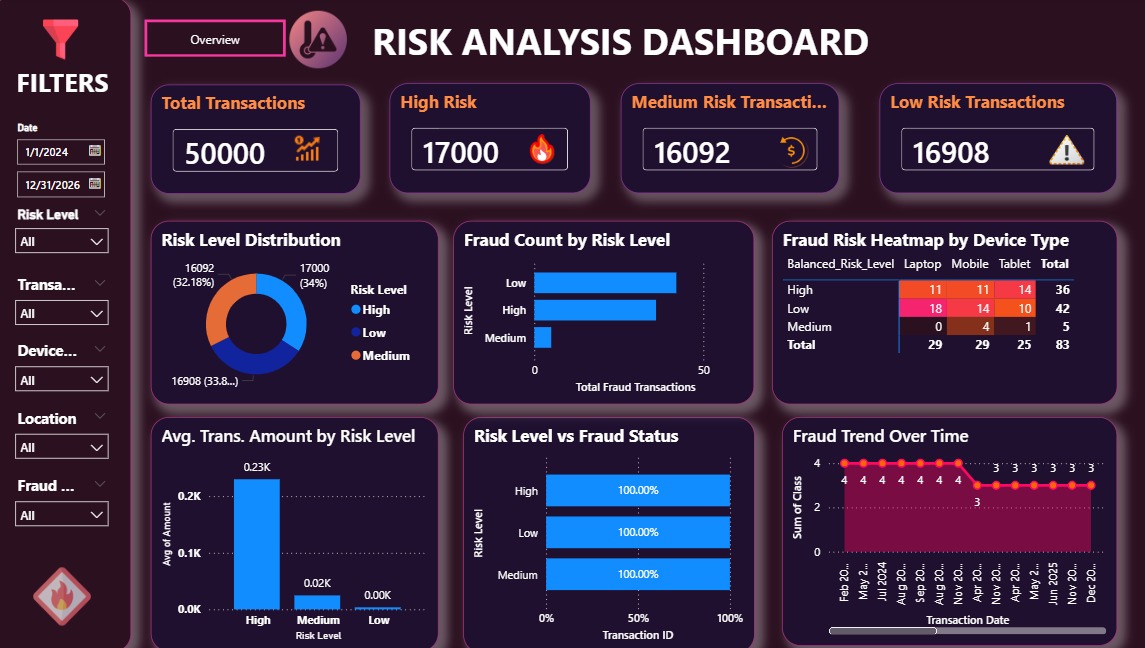

The page's visual inventory and layout, read from the dashboard file:
{"tool":"powerbi","page":{"name":"Page 3","canvas":[1280,720],"ordinal":2},"visuals":[{"type":"textbox","title":"RISK ANALYSIS DASHBOARD","box":[393.8,20.6,592.8,52.1],"z":0},{"type":"cardVisual","title":"Total Transactions","fields":{"Data":["enriched_data.Total Transactions"]},"box":[173.6,96.5,230.1,119.9],"z":1000},{"type":"cardVisual","title":"Medium Risk Transactions","fields":{"Data":["enriched_data.Test Medium Risk"]},"box":[690.2,94.7,240.1,120.8],"z":2000},{"type":"cardVisual","title":"Low Risk Transactions","fields":{"Data":["enriched_data.Low Risk Transactions"]},"box":[974.3,94.7,260.7,120.8],"z":3000},{"type":"cardVisual","title":"High Risk","fields":{"Data":["enriched_data.Test High Risk"]},"box":[436.4,94.7,220.9,120.8],"z":4000},{"type":"textbox","title":"FILTERS","box":[0,0,153,719.4],"z":5000},{"type":"slicer","fields":{"Values":["enriched_data.transaction_date"]},"box":[15,131.2,122.5,93.8],"z":6000},{"type":"slicer","fields":{"Values":["enriched_data.Balanced_Risk_Level"]},"box":[15,225,122.5,73.8],"z":7000},{"type":"slicer","fields":{"Values":["enriched_data.transaction_type"]},"box":[15,298.8,122.5,73.8],"z":8000},{"type":"slicer","fields":{"Values":["enriched_data.device_type"]},"box":[15,372.5,122.5,73.8],"z":9000},{"type":"slicer","fields":{"Values":["enriched_data.location"]},"box":[15,446.2,122.5,73.8],"z":10000},{"type":"slicer","fields":{"Values":["enriched_data.Fraud_Status"]},"box":[15,520,122.5,63.8],"z":11000},{"type":"donutChart","title":"Risk Level Distribution","fields":{"Y":["CountNonNull(enriched_data.transaction_id)"],"Category":["enriched_data.Balanced_Risk_Level"]},"box":[174.3,245.6,315.6,201.7],"z":12000},{"type":"clusteredColumnChart","title":"Avg. Trans. Amount by Risk Level","fields":{"Y":["Avg(enriched_data.amount)"],"Category":["enriched_data.Balanced_Risk_Level"]},"box":[174.3,461.1,315.6,258],"z":13000},{"type":"hundredPercentStackedBarChart","title":"Risk Level vs Fraud Status","fields":{"Y":["CountNonNull(enriched_data.transaction_id)"],"Category":["enriched_data.Balanced_Risk_Level"]},"box":[517.3,461.1,319.7,259.3],"z":14000},{"type":"clusteredBarChart","title":"Fraud Count by Risk Level","fields":{"Y":["enriched_data.Total Fraud Transactions"],"Category":["enriched_data.Balanced_Risk_Level"]},"box":[506.3,245.6,330.7,201.7],"z":15000},{"type":"pivotTable","title":"Fraud Risk Heatmap by Device Type","fields":{"Rows":["enriched_data.Balanced_Risk_Level"],"Columns":["enriched_data.device_type"],"Values":["Sum(enriched_data.class)"]},"box":[855.8,245.3,379,201.2],"z":16000},{"type":"lineChart","title":"Fraud Trend Over Time","fields":{"Y":["Sum(enriched_data.class)"],"Category":["enriched_data.Month_Year"]},"box":[866.8,461.7,368,250.8],"z":17000},{"type":"image","box":[322.5,150.2,46.9,33.1],"z":18000},{"type":"image","box":[587.3,144.1,32.9,45.3],"z":19000},{"type":"image","box":[856.3,148.2,42.5,41.2],"z":20000},{"type":"image","box":[1156.8,148.2,46.7,41.2],"z":21000},{"type":"image","box":[312.9,15.1,90.6,63.1],"z":22000},{"type":"textbox","title":"FILTERS","box":[22.1,74.4,115.8,44.1],"z":23000},{"type":"image","box":[49.6,24.8,52.4,44.1],"z":24000},{"type":"image","box":[45.5,618.8,63.4,78.6],"z":25000},{"type":"actionButton","title":"Overview ","box":[167.4,24.7,155.1,41.2],"z":26000}]}

Visuals, with their boxes in screenshot pixels (x1, y1, x2, y2), scaled from the page's 1280x720 canvas onto the 1145x648 screenshot:
"RISK ANALYSIS DASHBOARD" textbox: (x1=352, y1=19, x2=883, y2=65)
"Total Transactions" cardVisual: (x1=155, y1=87, x2=361, y2=195)
"Medium Risk Transactions" cardVisual: (x1=617, y1=85, x2=832, y2=194)
"Low Risk Transactions" cardVisual: (x1=872, y1=85, x2=1105, y2=194)
"High Risk" cardVisual: (x1=390, y1=85, x2=588, y2=194)
"FILTERS" textbox: (x1=0, y1=0, x2=137, y2=647)
slicer - enriched_data.transaction_date: (x1=13, y1=118, x2=123, y2=202)
slicer - enriched_data.Balanced_Risk_Level: (x1=13, y1=202, x2=123, y2=269)
slicer - enriched_data.transaction_type: (x1=13, y1=269, x2=123, y2=335)
slicer - enriched_data.device_type: (x1=13, y1=335, x2=123, y2=402)
slicer - enriched_data.location: (x1=13, y1=402, x2=123, y2=468)
slicer - enriched_data.Fraud_Status: (x1=13, y1=468, x2=123, y2=525)
"Risk Level Distribution" donutChart: (x1=156, y1=221, x2=438, y2=403)
"Avg. Trans. Amount by Risk Level" clusteredColumnChart: (x1=156, y1=415, x2=438, y2=647)
"Risk Level vs Fraud Status" hundredPercentStackedBarChart: (x1=463, y1=415, x2=749, y2=647)
"Fraud Count by Risk Level" clusteredBarChart: (x1=453, y1=221, x2=749, y2=403)
"Fraud Risk Heatmap by Device Type" pivotTable: (x1=766, y1=221, x2=1105, y2=402)
"Fraud Trend Over Time" lineChart: (x1=775, y1=416, x2=1105, y2=641)
image: (x1=288, y1=135, x2=330, y2=165)
image: (x1=525, y1=130, x2=555, y2=170)
image: (x1=766, y1=133, x2=804, y2=170)
image: (x1=1035, y1=133, x2=1077, y2=170)
image: (x1=280, y1=14, x2=361, y2=70)
"FILTERS" textbox: (x1=20, y1=67, x2=123, y2=107)
image: (x1=44, y1=22, x2=91, y2=62)
image: (x1=41, y1=557, x2=97, y2=628)
"Overview " actionButton: (x1=150, y1=22, x2=288, y2=59)
